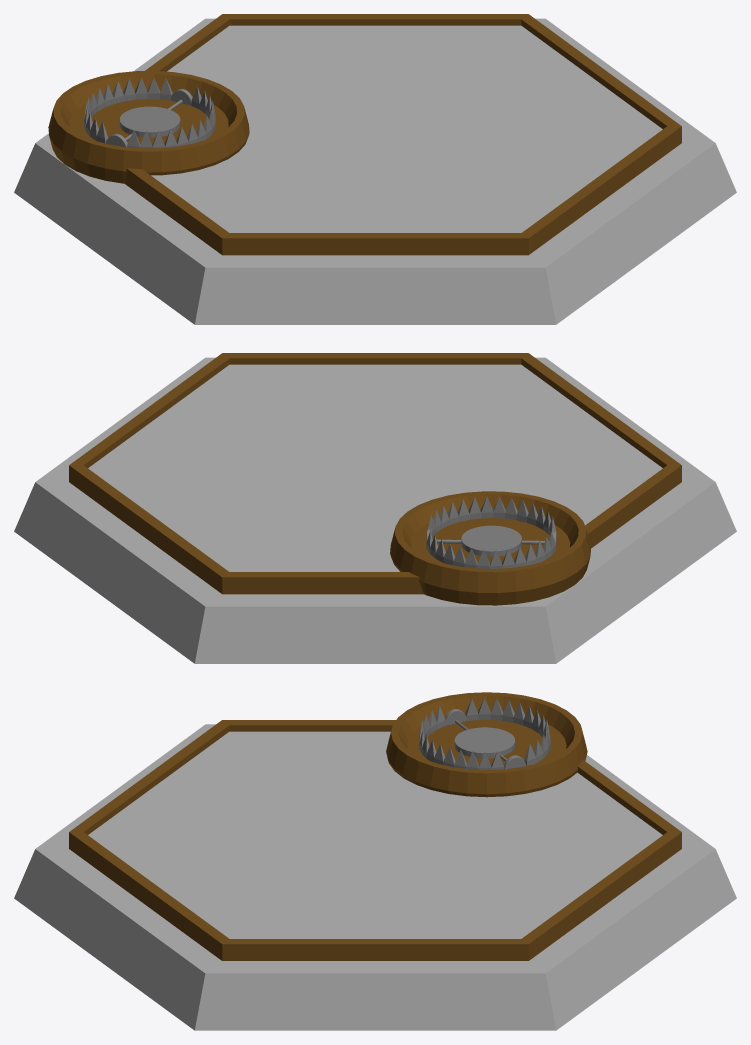
The model's file is perangkap board.fbx.
3 views of the same model, one above another, from view 1: azimuth 30°, elevation 25°; view 2: azimuth 150°, elevation 25°; view 3: azimuth 270°, elevation 25° (orthographic).
Visible parts, largest first — view 1: perangkap board; view 2: perangkap board; view 3: perangkap board.
Part boxes in pixels (x1,y1,x2,y2): perangkap board: [14, 14, 736, 324]; perangkap board: [14, 353, 736, 663]; perangkap board: [14, 692, 736, 1030].
Size of the model in its own units: 315 by 50.39 by 364.
